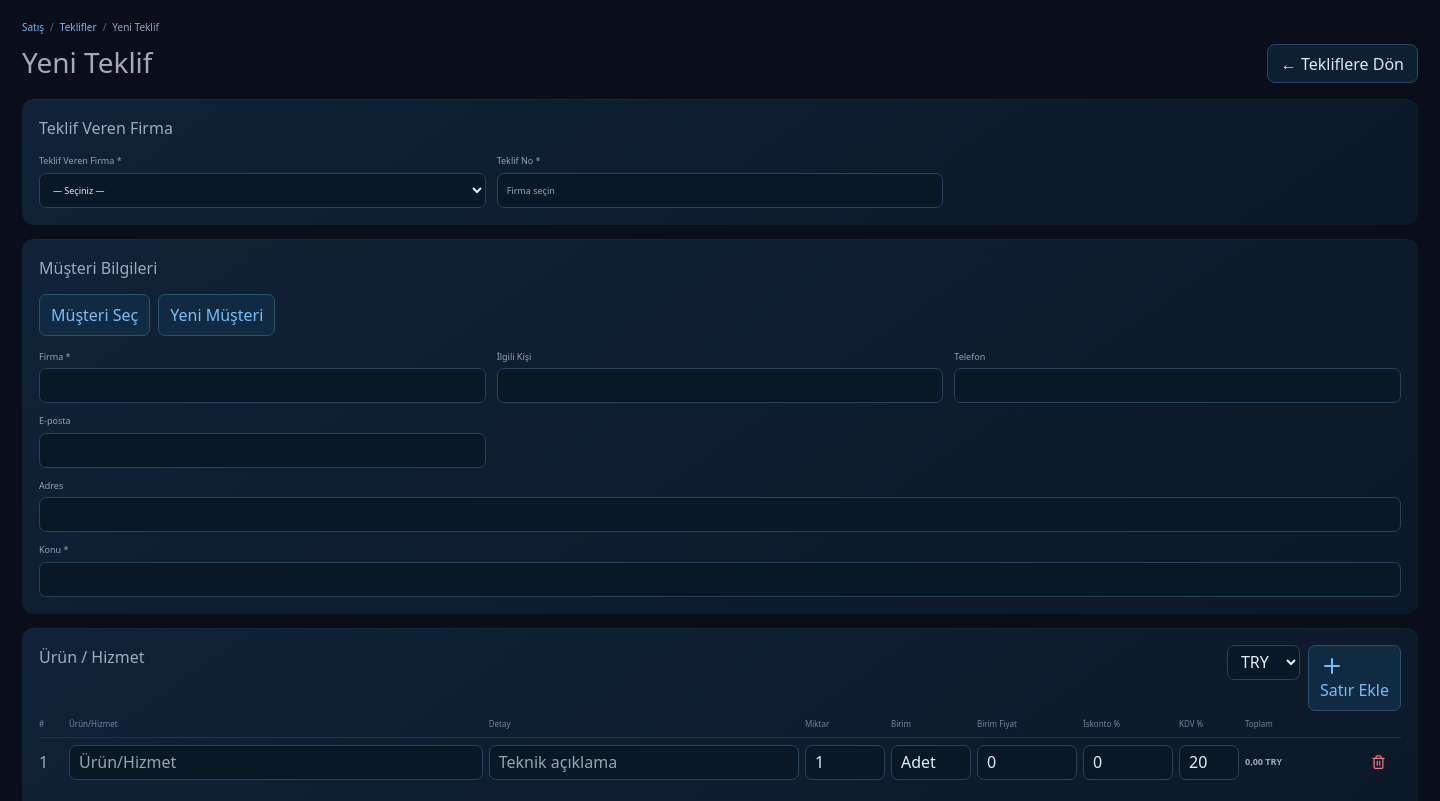
QuoteFormPage — issuer selection generates a real, series-correct quote number › requests a Dayan (DY) number when Dayan is selected
Select "Dayan Dişli & Profil Taşlama" in the dropdown labelled "Teklif Veren Firma *" at point(262, 190), box [39,172,486,208]
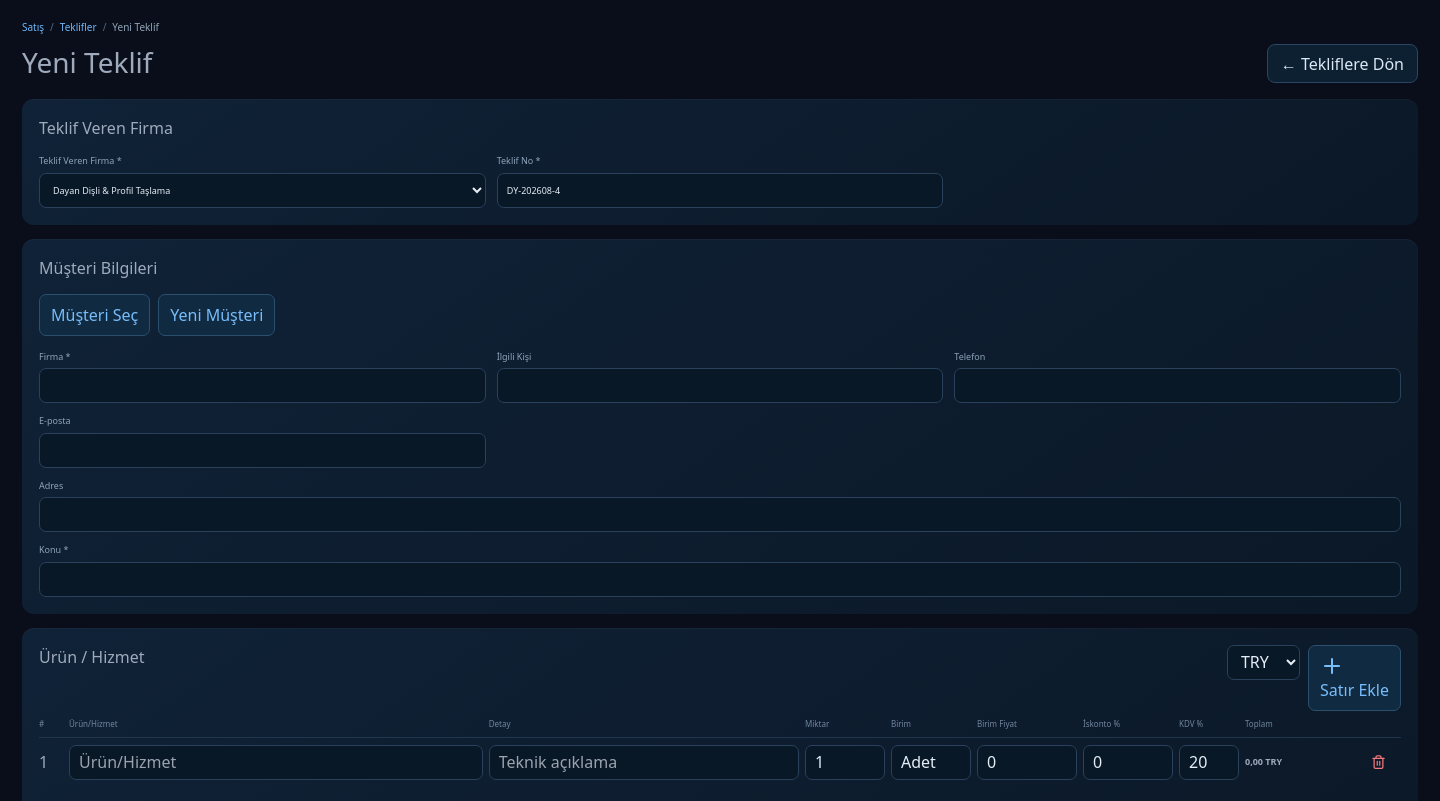
Check: the field showing "DY-202608-4" is shown, box [497,172,943,208]
